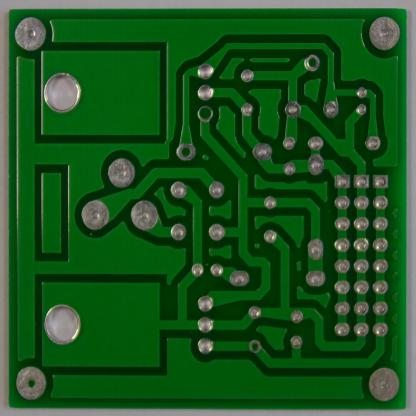missing_hole: (20, 370, 41, 394), (174, 142, 197, 161), (303, 53, 320, 72), (197, 105, 214, 122), (247, 338, 262, 354)
